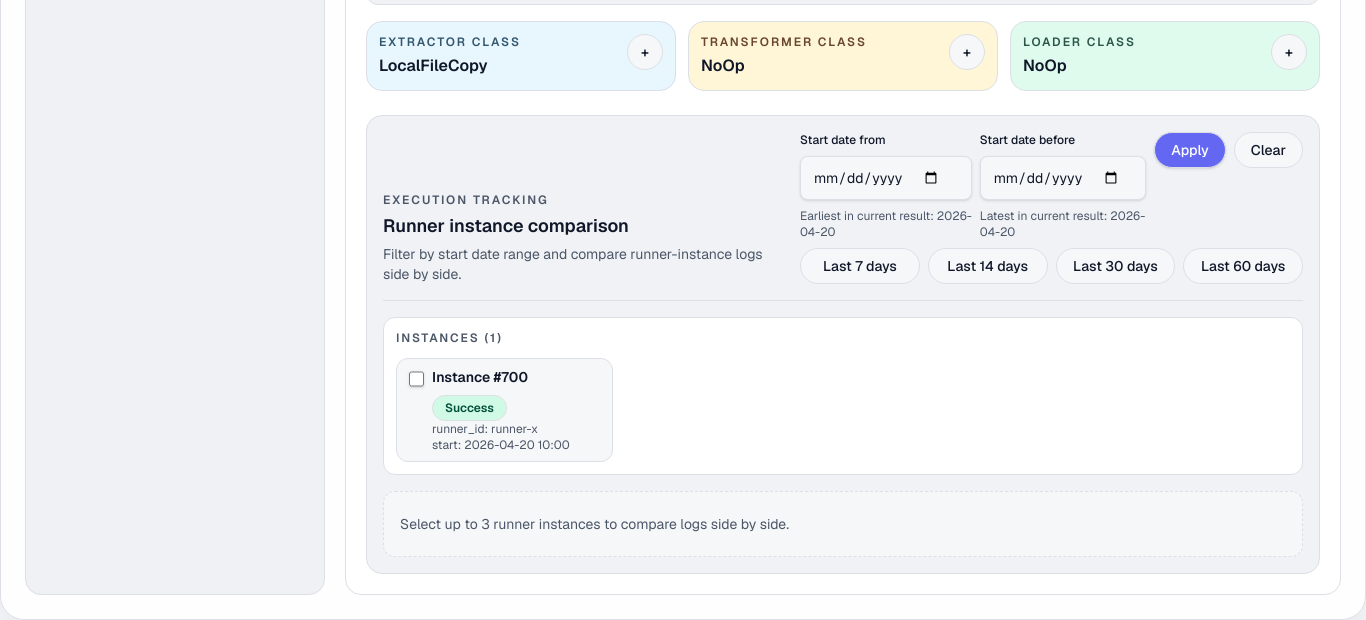
Test case: task-definition workspace › loads and sorts runner logs when selecting an instance
(page scrolled)
Click the text "Instance #700" at (480, 377), box [432, 367, 528, 387]
(page scrolled)
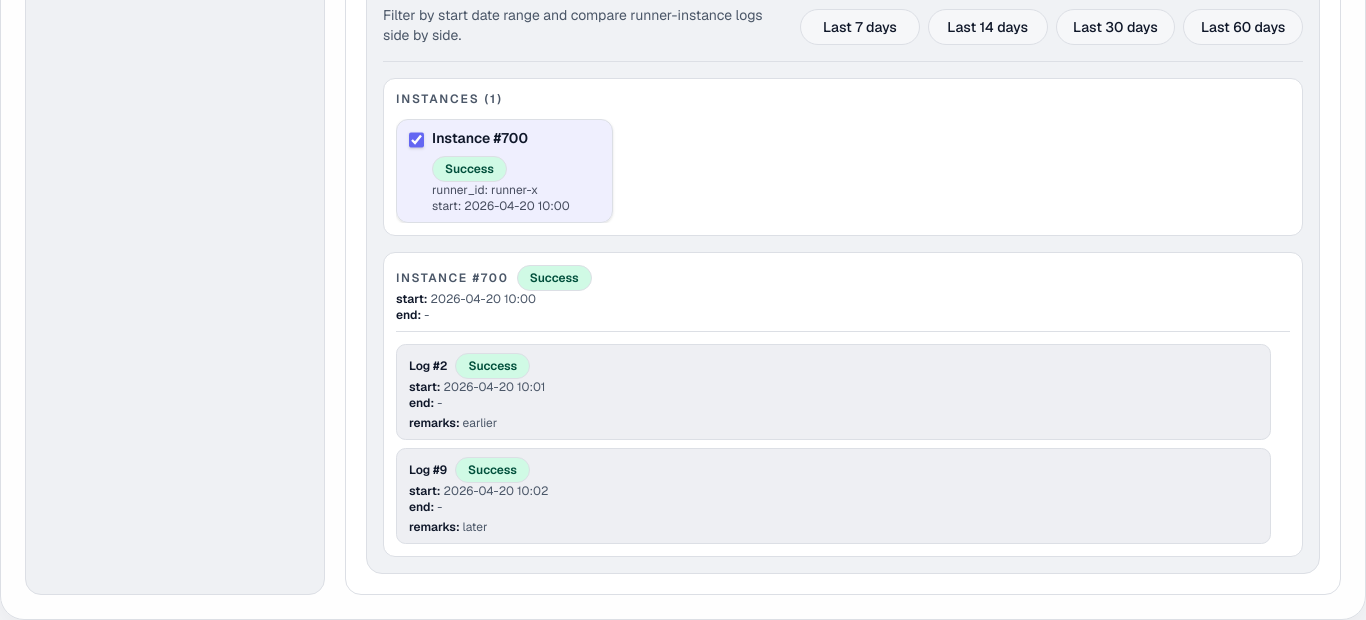
expect the text "Log #2" is shown: met, box [409, 358, 447, 374]
expect the text "Log #9" is shown: met, box [409, 462, 447, 478]
